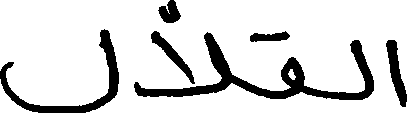ا: (382, 38, 404, 107)
ق: (252, 26, 304, 99)
ل: (0, 26, 119, 110), (347, 37, 373, 99)
لا: (132, 0, 230, 98)
